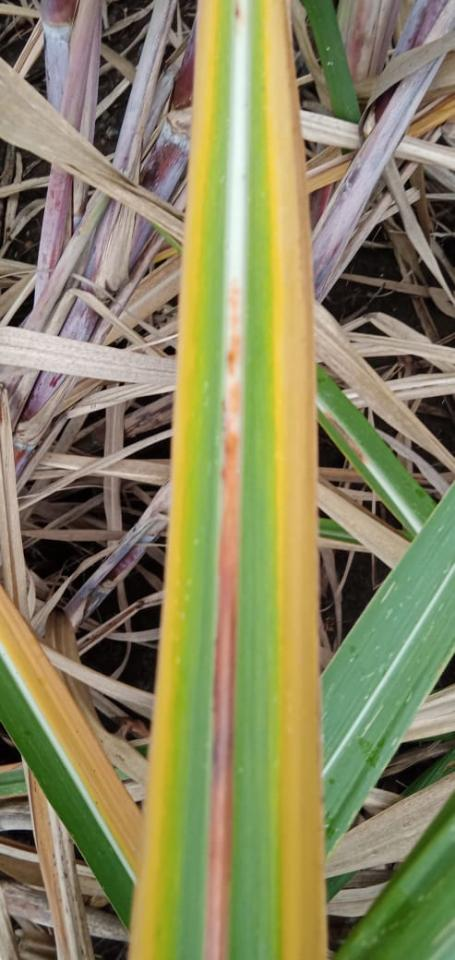RedRot: (204, 425, 239, 959), (226, 332, 243, 376), (228, 287, 242, 329), (229, 384, 240, 415)
Yellow: (128, 0, 215, 959), (264, 2, 325, 959), (0, 583, 143, 877)
